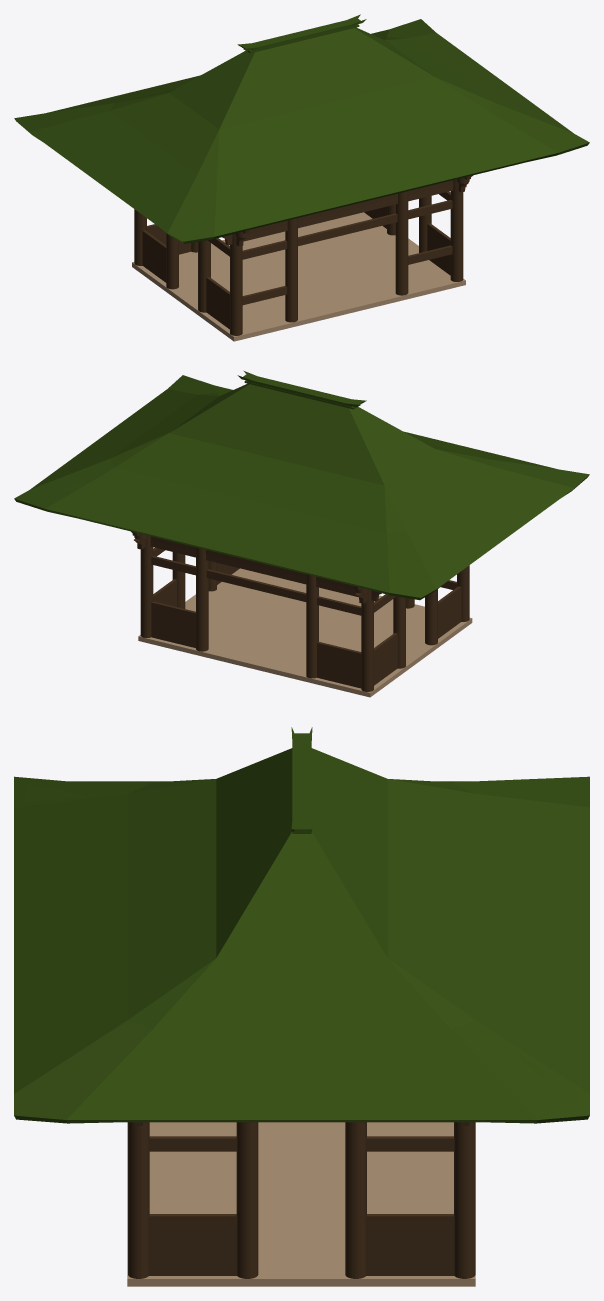
Rendered from Temple.glb.
3 views of the same model, one above another, from view 1: azimuth 30°, elevation 25°; view 2: azimuth 150°, elevation 25°; view 3: azimuth 270°, elevation 25° (orthographic). The views are drawn at different scales.
Visible parts, largest first — view 1: roof, floor, posts, bars, top; view 2: roof, floor, bars, posts, top; view 3: roof, floor, bars, posts.
Boxes of the visible parts, x1,y1,x2,y2 form: roof: [14, 14, 589, 243]; floor: [132, 212, 465, 341]; posts: [134, 179, 463, 335]; bars: [142, 191, 452, 329]; top: [222, 175, 472, 246]; roof: [14, 370, 589, 600]; floor: [138, 568, 472, 697]; bars: [151, 547, 461, 688]; posts: [140, 535, 469, 691]; top: [131, 531, 381, 603]; roof: [14, 727, 589, 1123]; floor: [127, 1122, 475, 1286]; bars: [149, 1136, 454, 1275]; posts: [128, 1122, 475, 1278].
Size of the model in its own units: 73.79 by 42.15 by 53.01.
